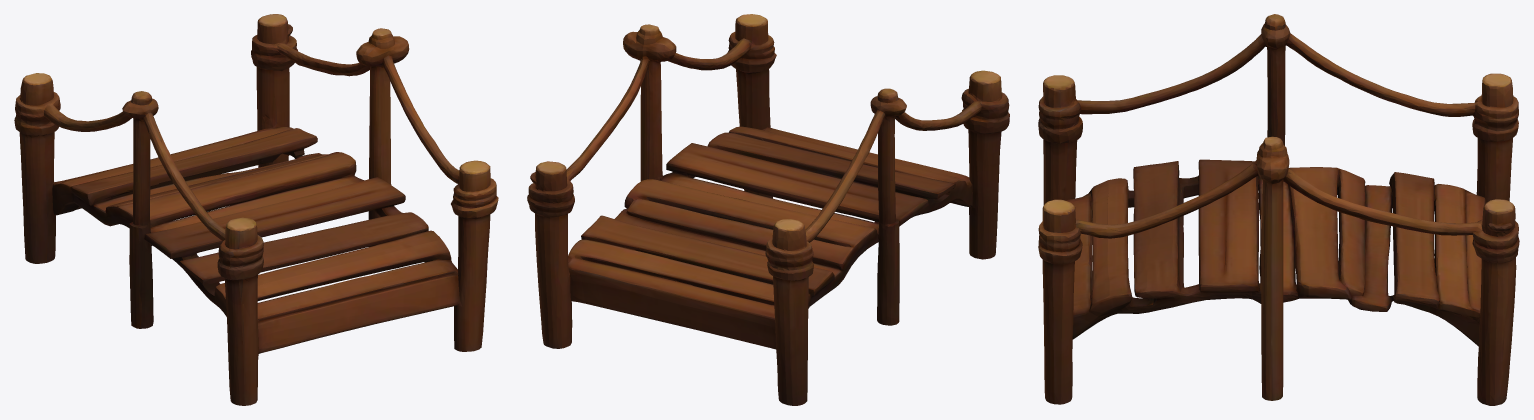
Rendered from wood_bridge.glb.
The picture shows the model from 3 angles, left to right: view 1: azimuth 30°, elevation 25°; view 2: azimuth 150°, elevation 25°; view 3: azimuth 270°, elevation 25°; orthographic projection. The views are drawn at different scales.
Parts seen in each view (by area): view 1: world; view 2: world; view 3: world.
Boxes of the visible parts, x1,y1,x2,y2 form: world: (14, 14, 498, 405); world: (527, 14, 1009, 405); world: (1038, 14, 1519, 405).
Bounding box in the file's own units: 0.7593 × 0.6053 × 1.
Materials: 1 (1 with a texture image).
